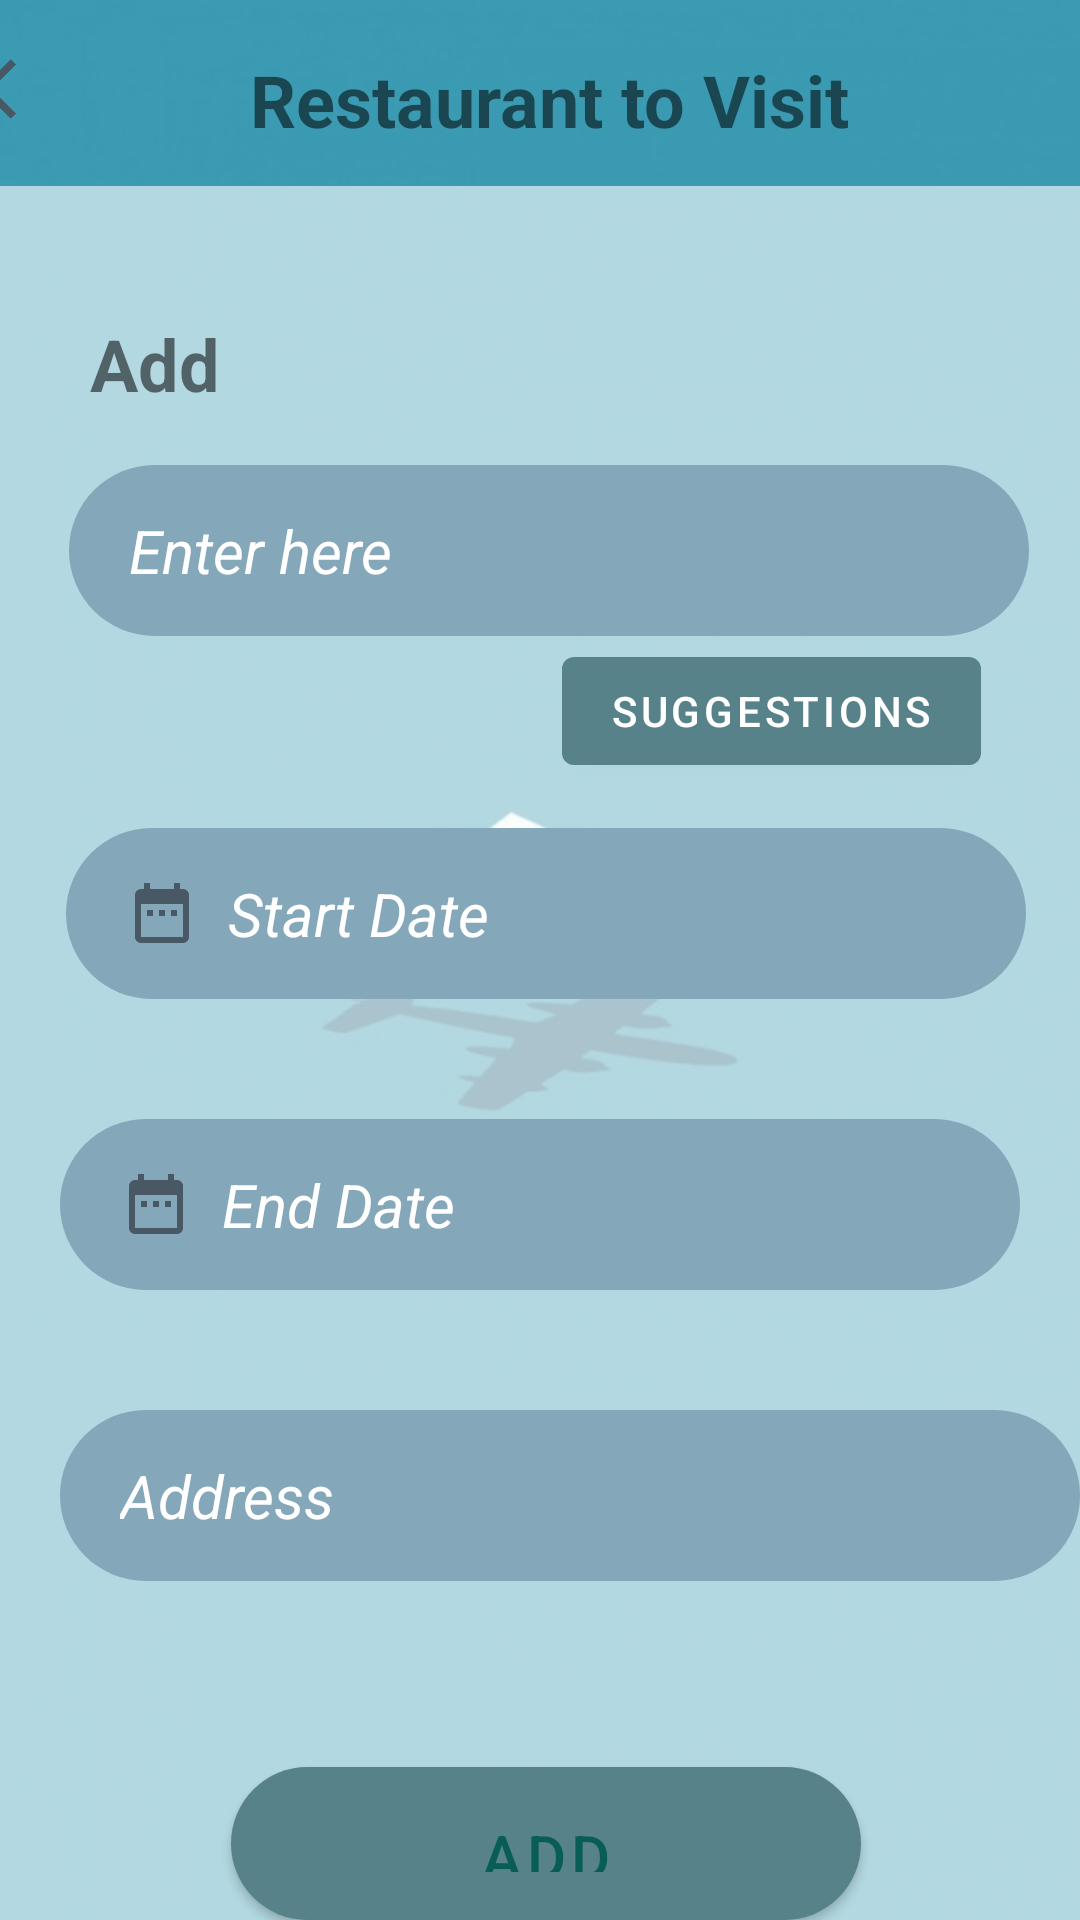

Where icons sit on this 1080*1920 app screen, as (x1, y1, x2, y2):
arrow back: (0, 59, 16, 119)
